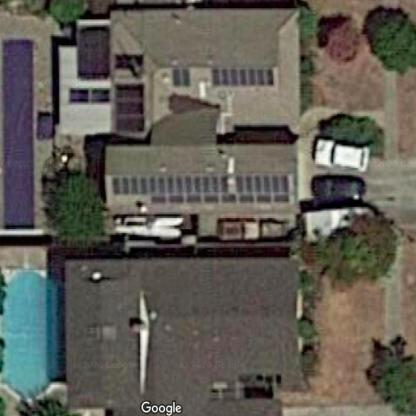car: (294, 207, 388, 254), (307, 132, 377, 174), (307, 172, 372, 205)
solar_panel: (110, 170, 292, 215), (172, 59, 279, 102), (113, 74, 157, 146)
swimming_pool: (1, 259, 78, 408)
